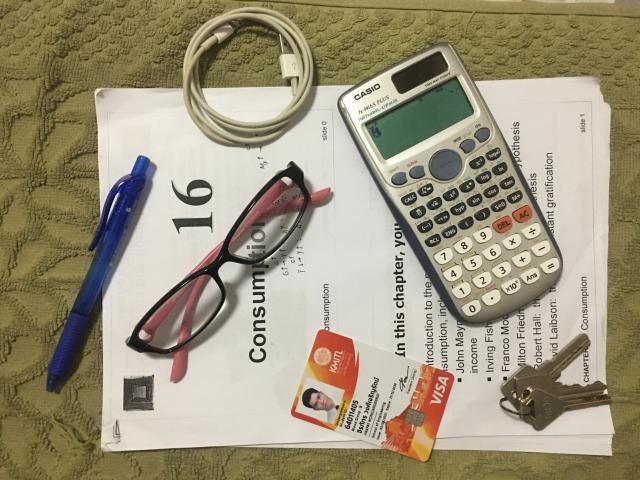Glasses: (126, 162, 311, 374)
Pen: (46, 156, 150, 392)
paper: (95, 78, 614, 455)
wire: (182, 8, 314, 145)
